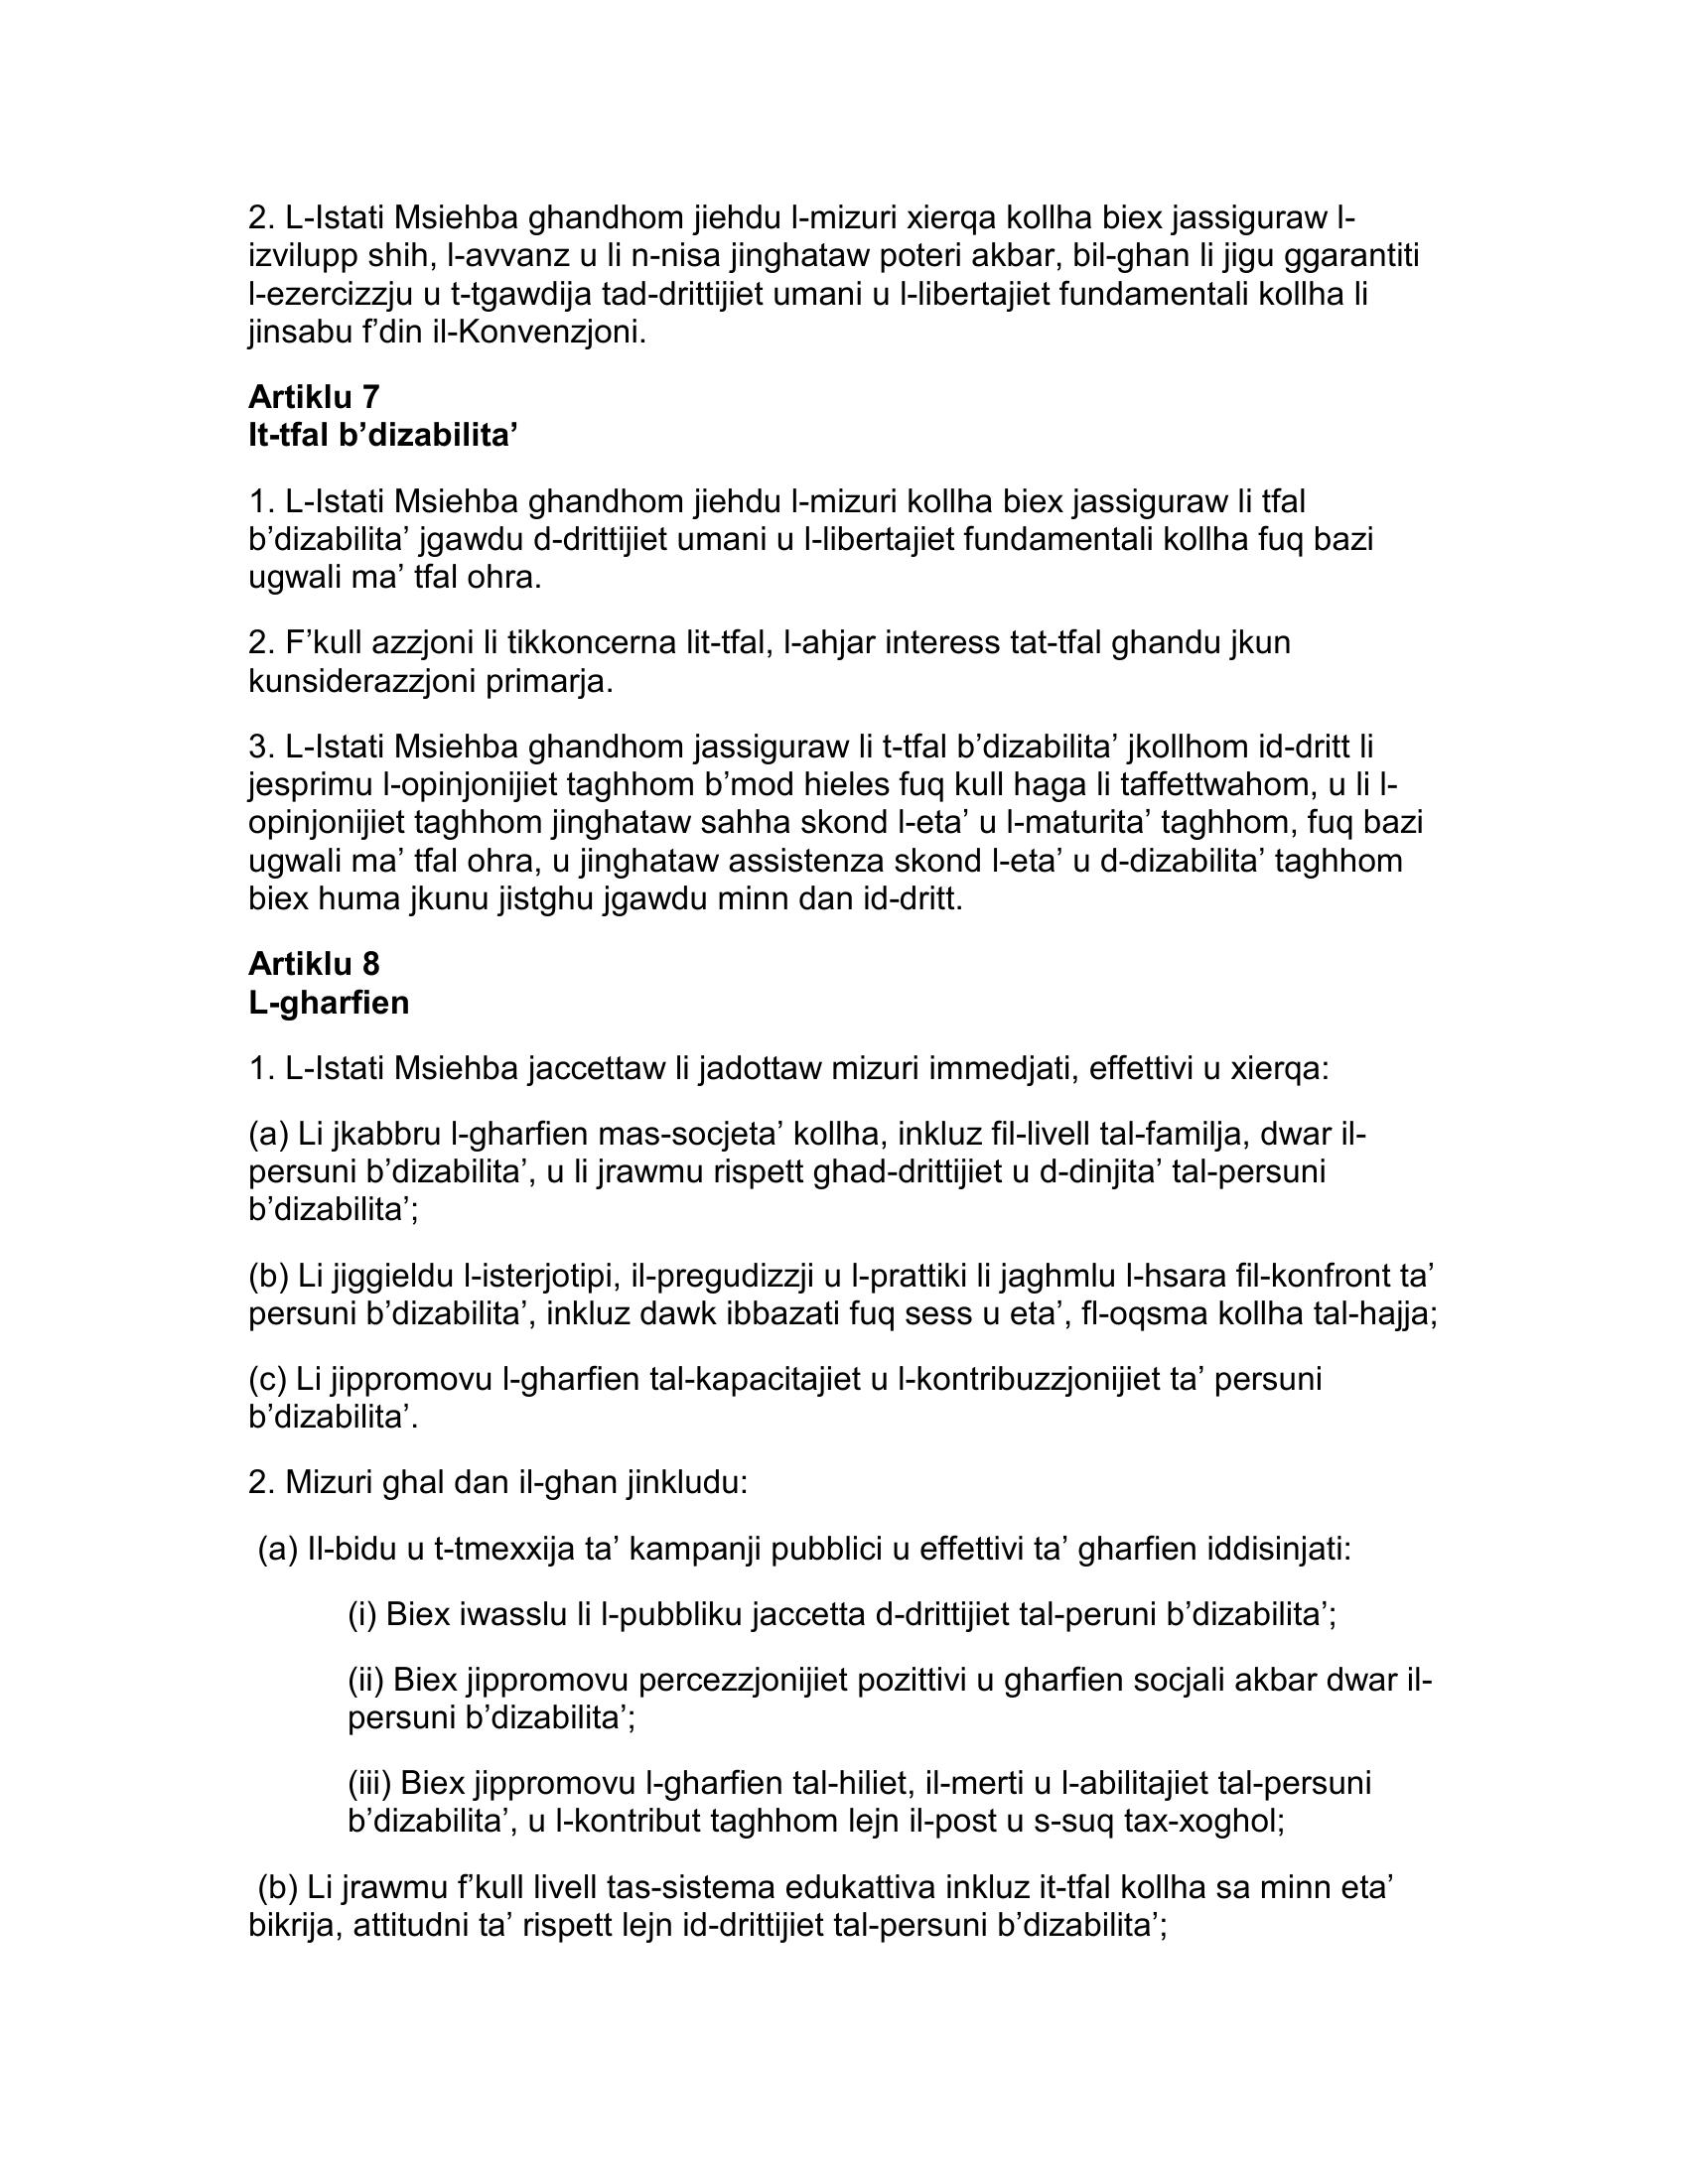text: (218, 172, 1450, 1959)
